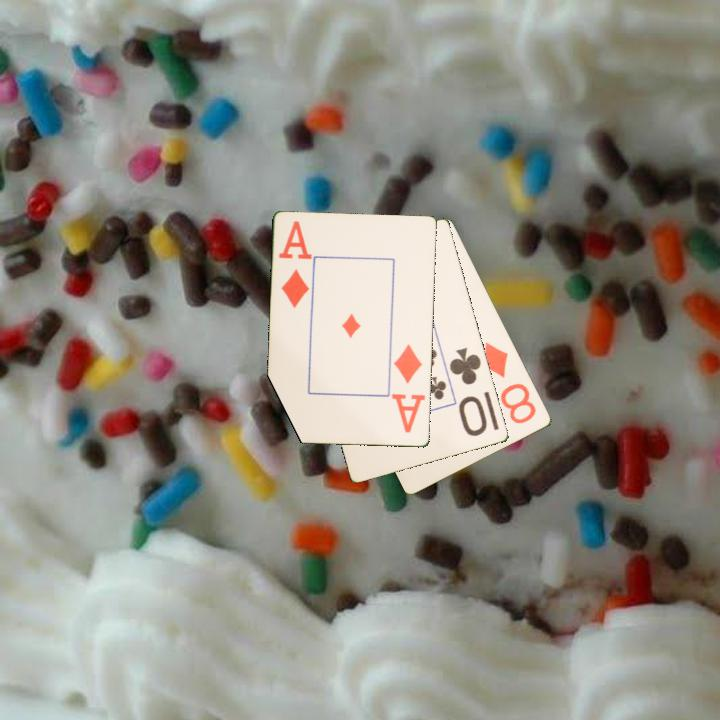10c: (446, 344, 490, 439)
8d: (479, 339, 539, 427)
Ad: (389, 341, 428, 436), (275, 218, 313, 312)
